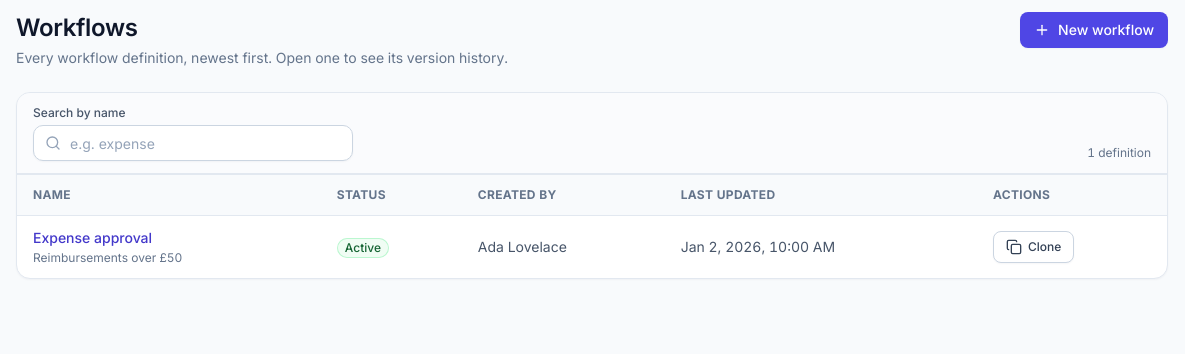
WorkflowList › clones a workflow and reports the copy it created
The image size is (1185, 354).
Click the button named "Clone Expense approval": (1034, 247) [993, 231, 1074, 263]
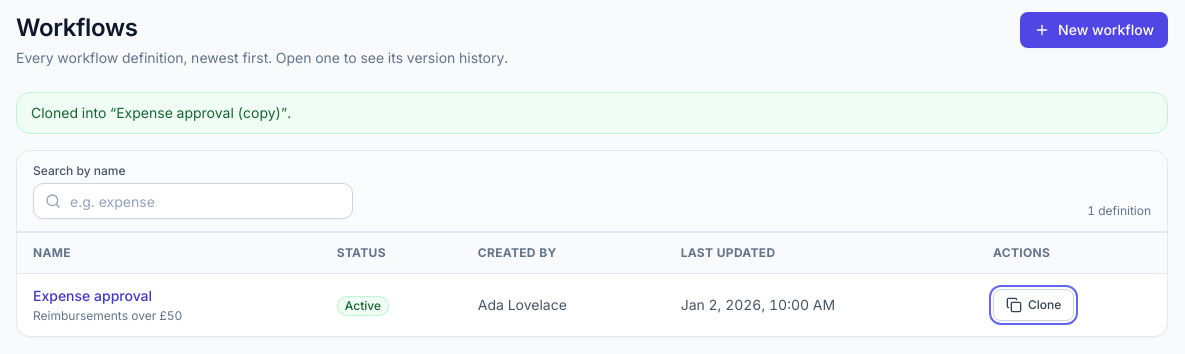
Expected: the message reads "Cloned into “Expense approval (copy)”.", [31, 104, 291, 121]
